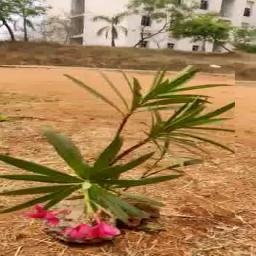OLEANDER: (0, 65, 236, 219)
